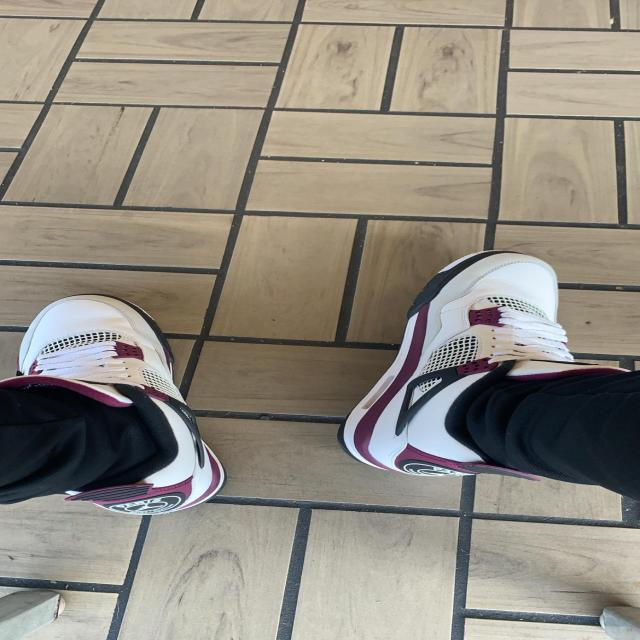shoe: (329, 245, 624, 481), (1, 284, 241, 532)
